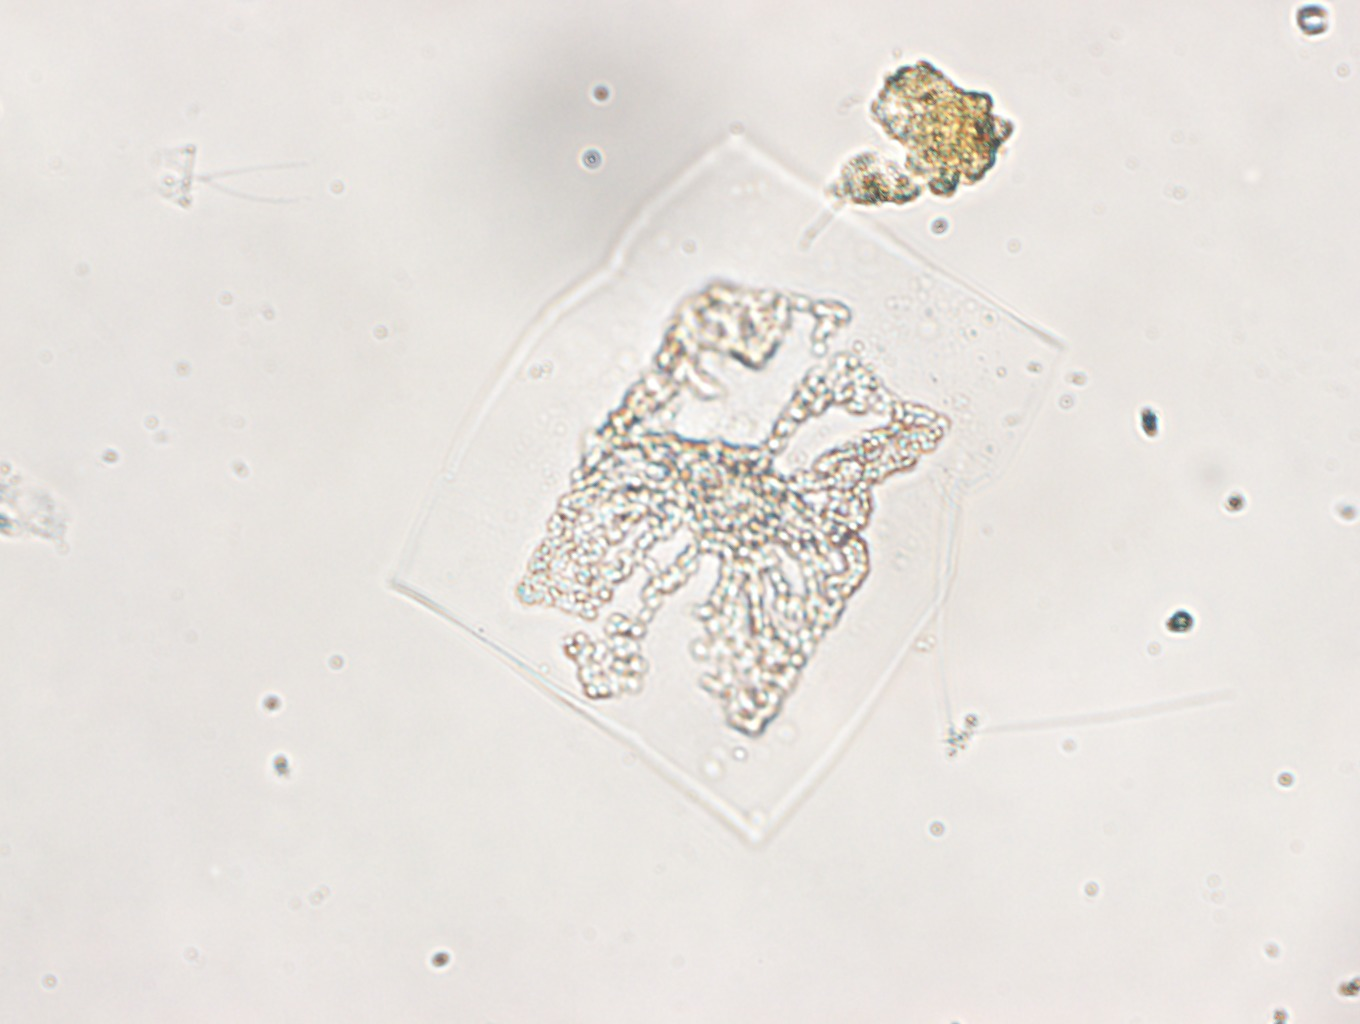helicotheca: (389, 131, 1068, 847)
